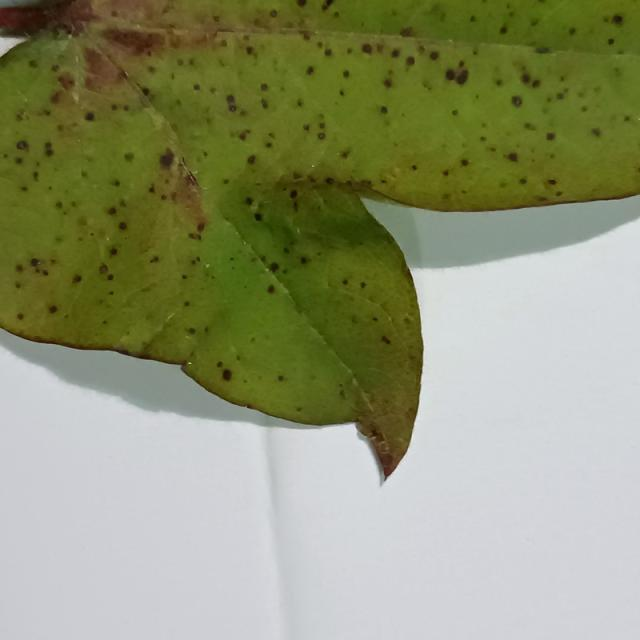Bacterial_Blight: (502, 143, 525, 166), (28, 257, 50, 275), (57, 72, 76, 91), (159, 149, 175, 168), (241, 152, 257, 168), (379, 452, 393, 469), (225, 94, 237, 112), (456, 69, 469, 84), (58, 24, 74, 36), (43, 142, 54, 157), (15, 140, 29, 151), (399, 26, 413, 37), (370, 429, 382, 441), (421, 79, 433, 91), (337, 149, 351, 159), (361, 43, 373, 54), (520, 72, 531, 84), (322, 0, 335, 10), (84, 111, 95, 122), (238, 130, 249, 141), (429, 50, 440, 61), (612, 14, 623, 25), (511, 96, 522, 107), (222, 369, 232, 381), (445, 69, 455, 81), (123, 152, 135, 162), (535, 46, 550, 54), (188, 232, 201, 241), (405, 55, 415, 66), (269, 262, 279, 273), (359, 179, 372, 187), (107, 206, 117, 216), (72, 274, 82, 284), (381, 335, 391, 345), (140, 87, 150, 97), (390, 48, 400, 58), (403, 315, 413, 325), (292, 171, 303, 180), (384, 78, 393, 88), (289, 189, 298, 199), (546, 132, 556, 141), (99, 265, 108, 275), (531, 79, 541, 88), (245, 45, 254, 55), (591, 128, 601, 137), (30, 258, 40, 267), (196, 222, 205, 232), (261, 98, 269, 109), (296, 0, 307, 8), (306, 66, 315, 75), (118, 221, 127, 230), (109, 247, 118, 256), (49, 305, 58, 314), (269, 9, 278, 18), (568, 27, 577, 36), (267, 284, 275, 294), (149, 255, 159, 263), (325, 177, 335, 185), (28, 60, 38, 68), (380, 106, 388, 115), (342, 70, 350, 79), (460, 159, 469, 167), (300, 256, 308, 265), (317, 132, 326, 140), (324, 48, 332, 57), (499, 26, 508, 34), (51, 64, 60, 72), (80, 169, 88, 178), (260, 83, 268, 91), (254, 213, 262, 221), (193, 83, 201, 91), (607, 38, 615, 46), (277, 374, 285, 382), (15, 157, 24, 164), (212, 15, 221, 22), (188, 327, 196, 334), (342, 278, 349, 286), (303, 123, 310, 131), (107, 273, 114, 281), (519, 178, 527, 185), (624, 115, 632, 122), (548, 179, 557, 185), (411, 164, 418, 171), (216, 361, 223, 368), (17, 313, 24, 320), (469, 15, 476, 22), (339, 89, 345, 97), (452, 109, 458, 116), (360, 281, 366, 288), (181, 274, 188, 280)
Cotton: (0, 0, 639, 478)
